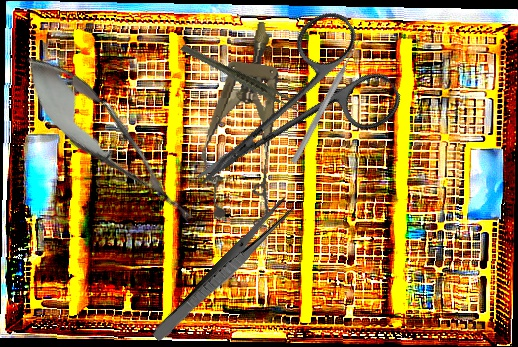Dressing Forceps: (149, 195, 297, 347)
Iris Scissors: (160, 2, 409, 229)
Micro Scissor: (5, 39, 211, 241)
Pusher: (289, 38, 364, 165)
Speculum: (191, 16, 302, 228)
Tissue Forceps: (179, 24, 304, 131)
